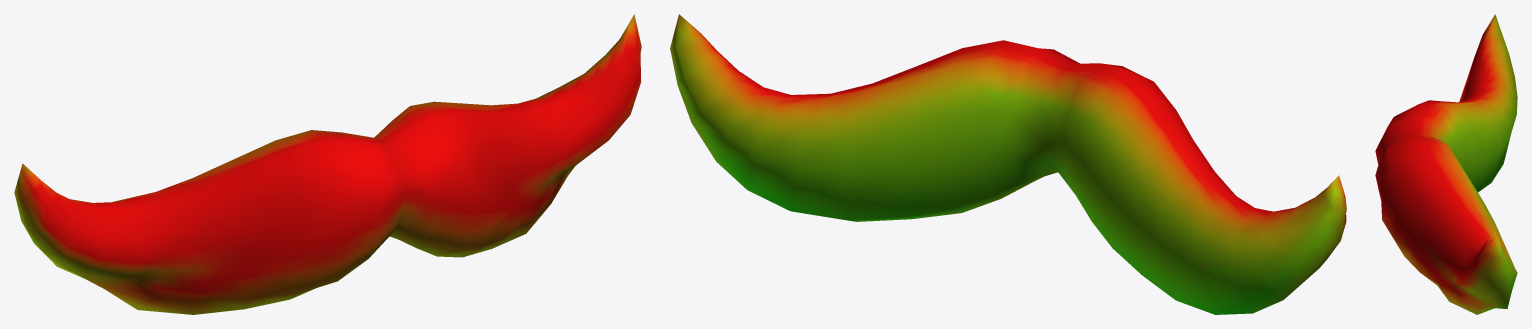
The model's file is LowerFace_FancyStash.obj.
The picture shows the model from 3 angles, left to right: view 1: azimuth 30°, elevation 25°; view 2: azimuth 150°, elevation 25°; view 3: azimuth 270°, elevation 25°; orthographic projection. The views are drawn at different scales.
Visible parts, largest first — view 1: LowerFace_FancyStash_0; view 2: LowerFace_FancyStash_0; view 3: LowerFace_FancyStash_0.
Boxes of the visible parts, <box> form: LowerFace_FancyStash_0: <box>14,14,641,314</box>; LowerFace_FancyStash_0: <box>670,14,1346,314</box>; LowerFace_FancyStash_0: <box>1375,14,1517,314</box>.
Size of the model in its own units: 0.1779 by 0.0466 by 0.0482.
1 material, 1 textured.
